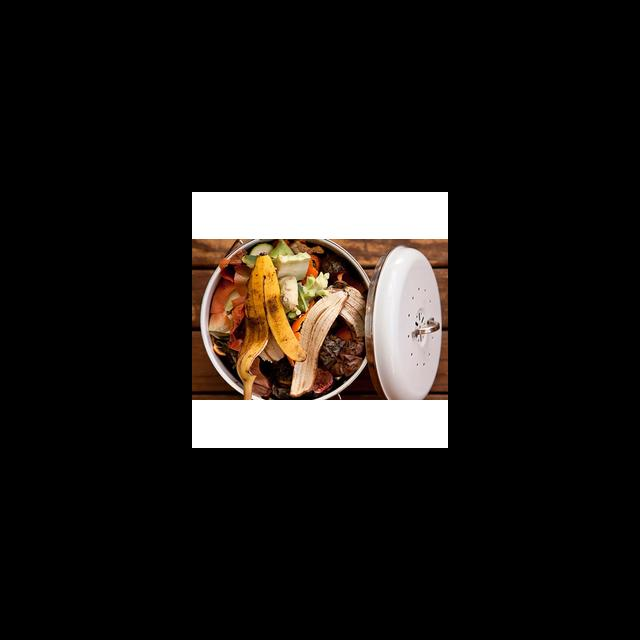food_waste: (234, 257, 293, 397), (288, 274, 336, 392), (271, 264, 314, 310), (212, 302, 249, 355), (269, 239, 312, 283), (332, 275, 367, 329)
